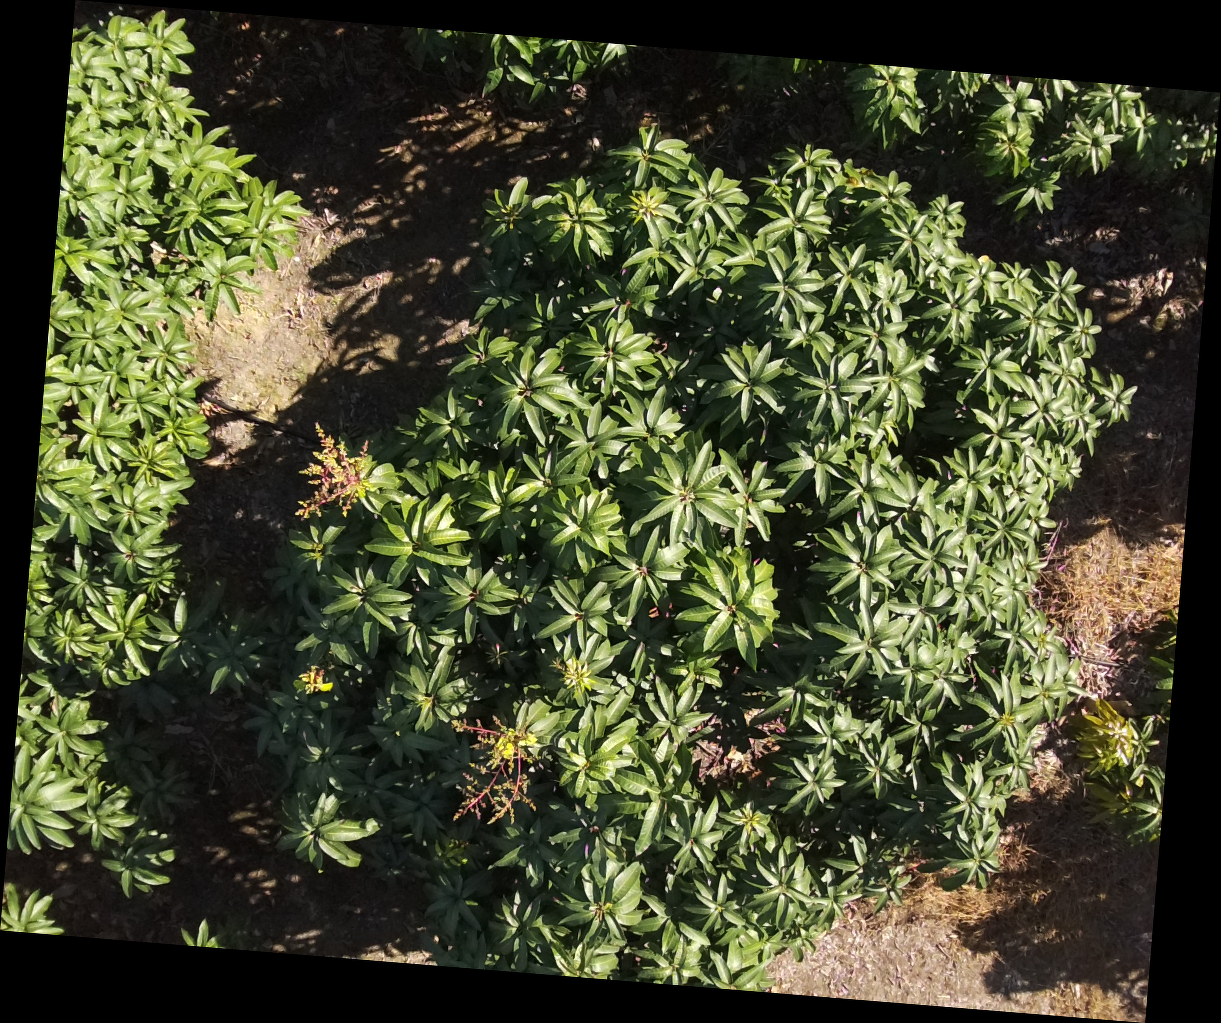flowers: (450, 717, 538, 823), (299, 425, 369, 520), (294, 665, 333, 695), (648, 605, 660, 618)
